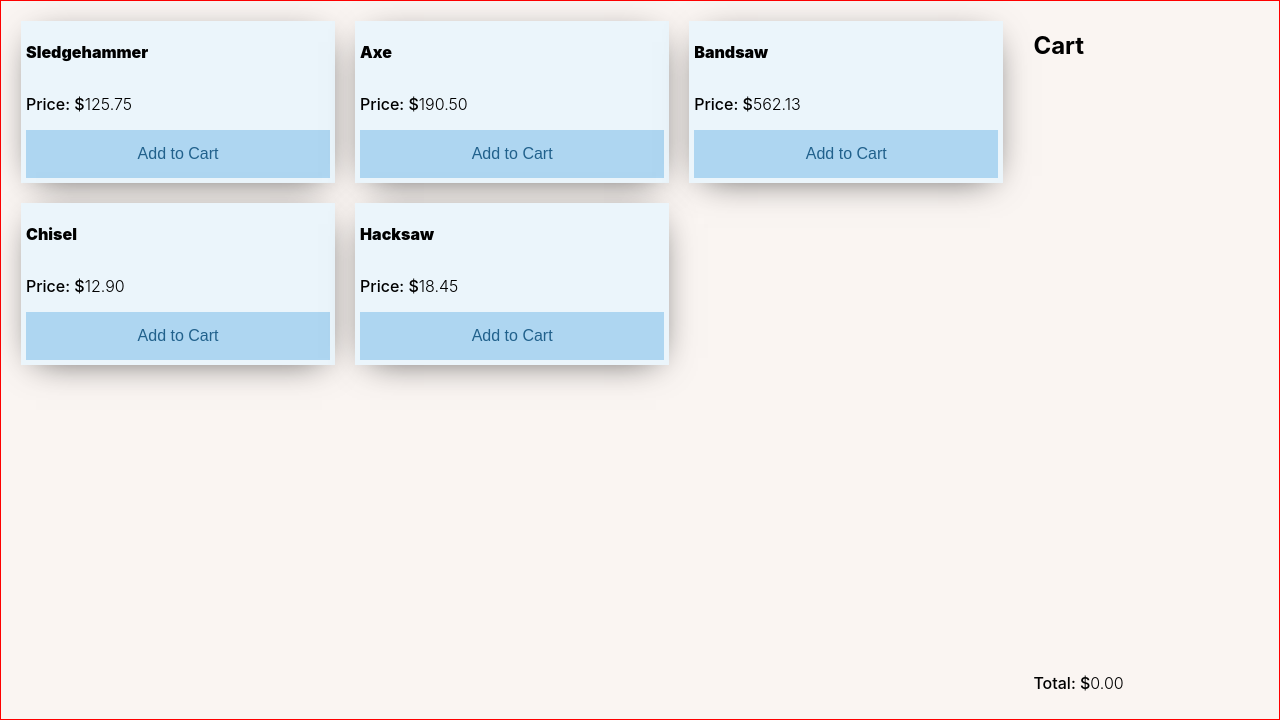
Scenario: on clicking "Add to Cart" button it should add product to the cart.
This screenshot has width=1280, height=720.
Click the button "Add to Cart" below "125.75" at (178, 154), box [26,130,330,178]
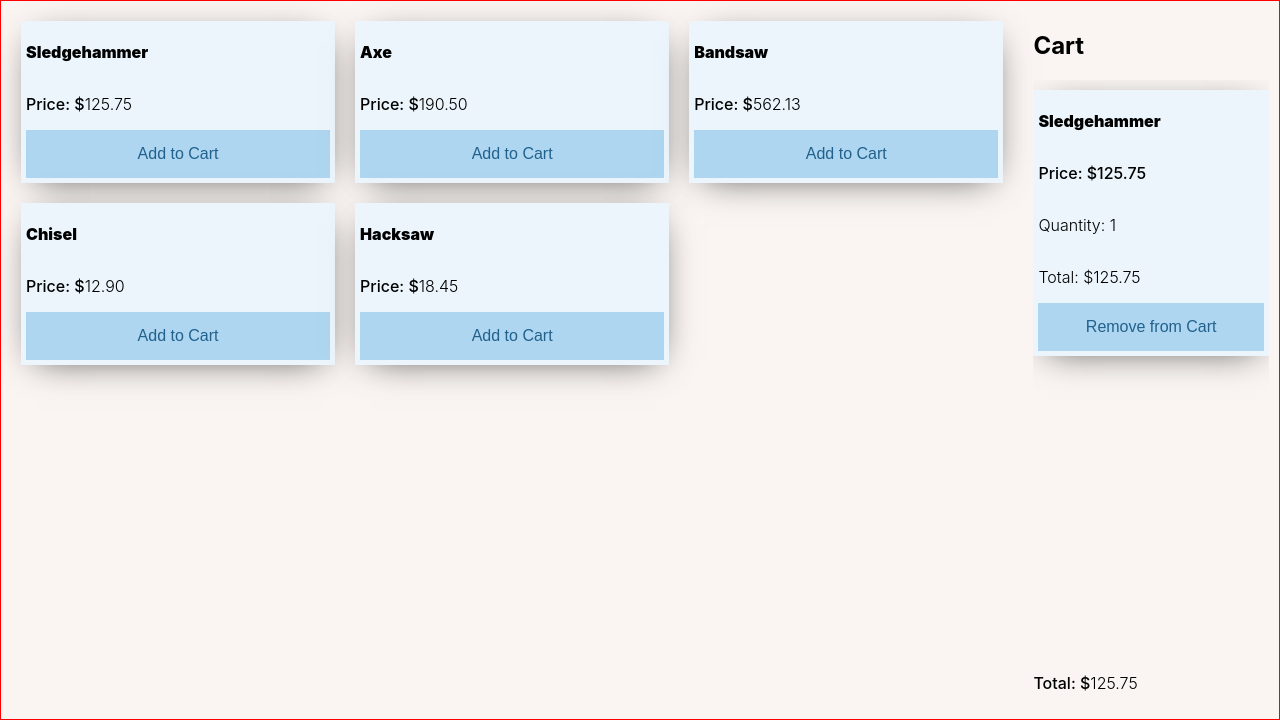
expect the button "Remove from Cart" is shown: met, box [1038,303,1264,351]
